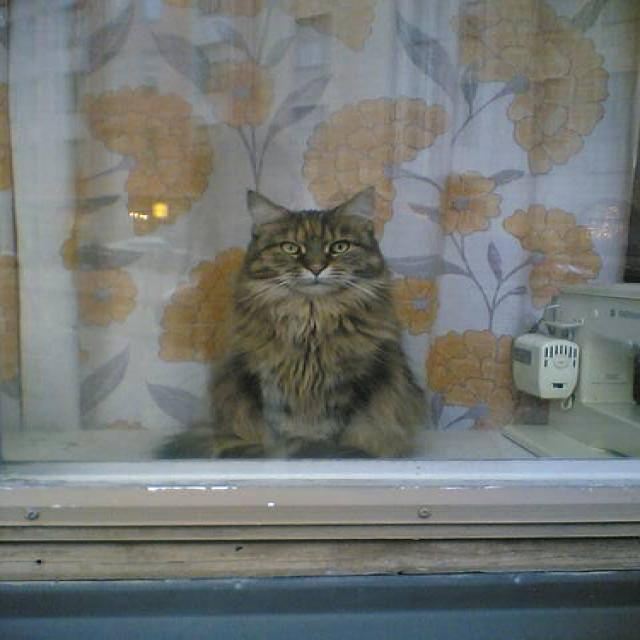cat: (153, 186, 431, 461)
